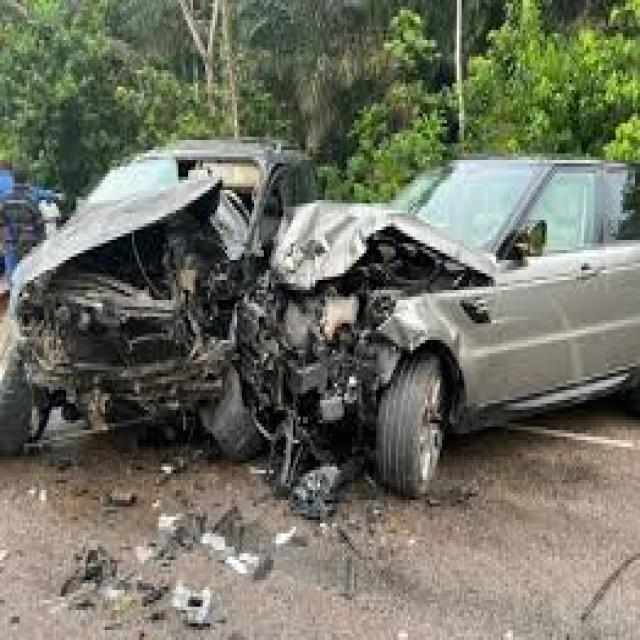accident: (22, 144, 607, 500)
